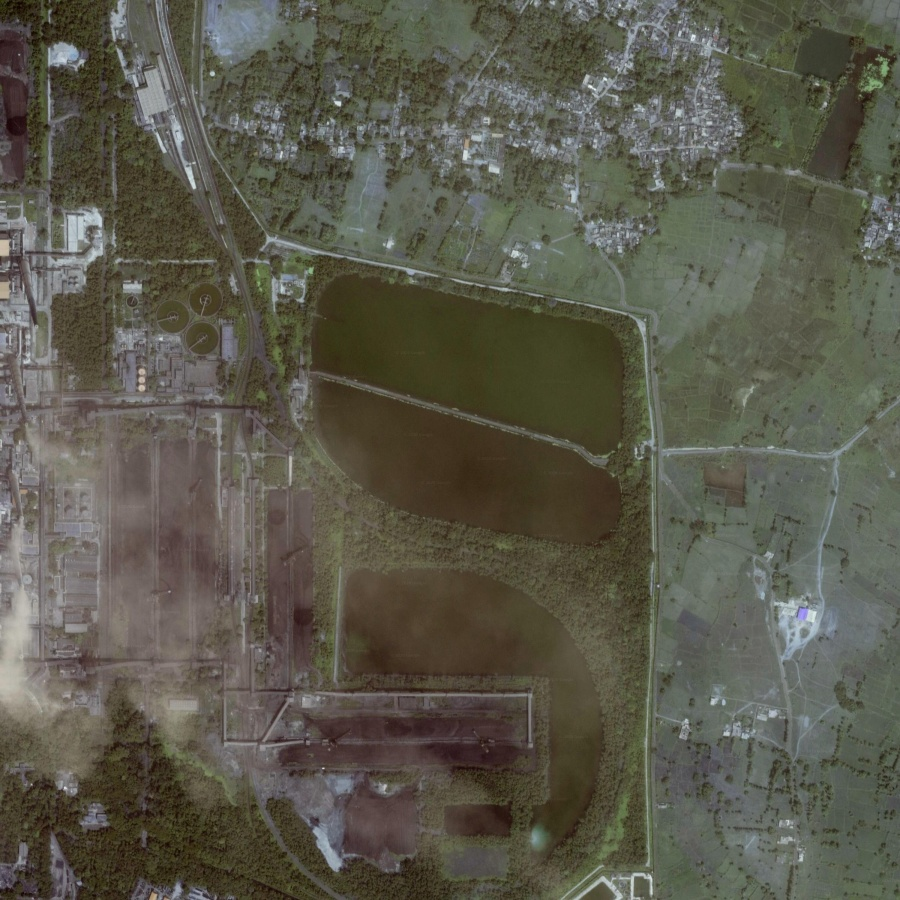PowerPlant: (259, 691, 543, 877)
